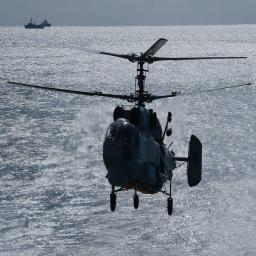helicopter: (38, 21, 247, 216)
